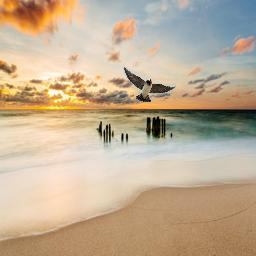Swallow: (123, 66, 176, 102)
